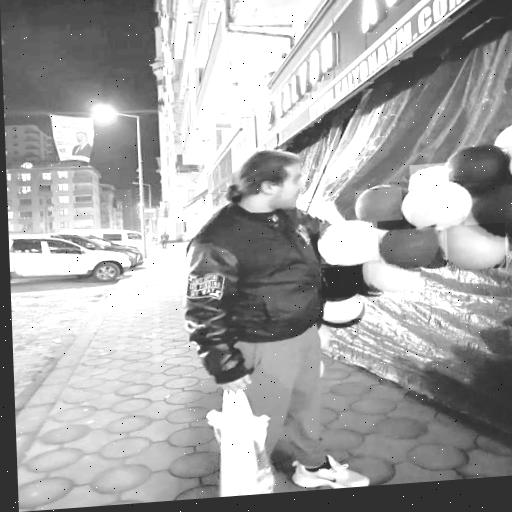balloon: (446, 222, 507, 272), (381, 226, 445, 272), (320, 218, 379, 264), (410, 185, 465, 232), (453, 144, 508, 184), (368, 261, 421, 302), (355, 188, 403, 223), (321, 265, 364, 299), (409, 163, 449, 187), (323, 300, 368, 321), (499, 128, 512, 148)
